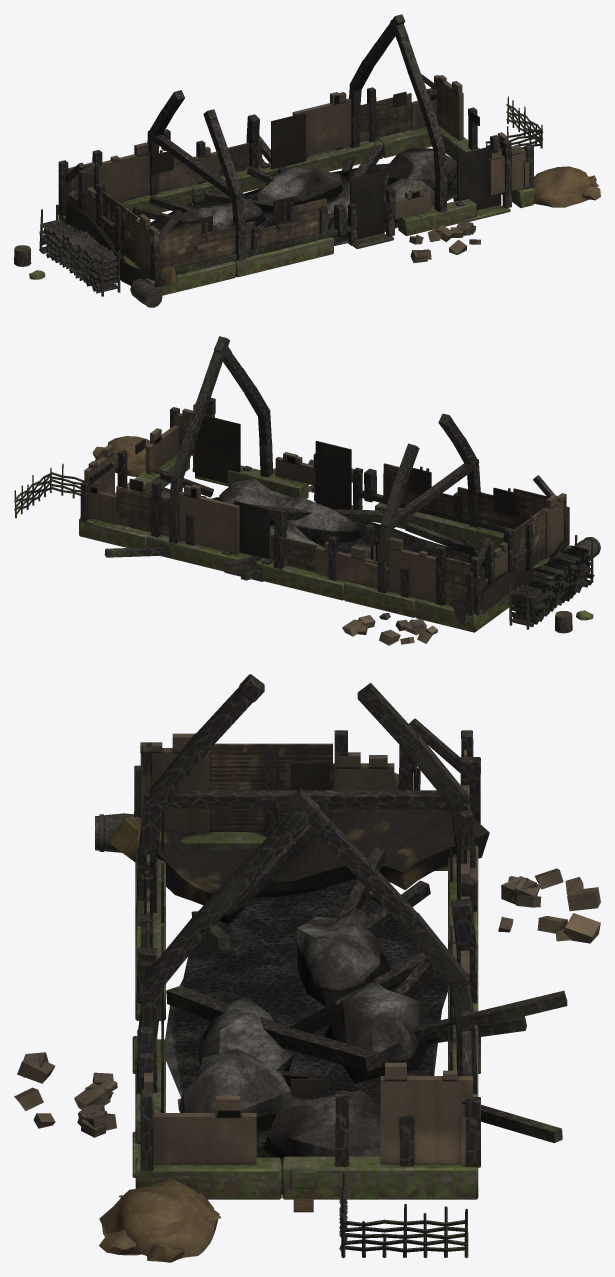
File: house_ruin.glb
The picture shows the model from 3 angles, top to bottom: view 1: azimuth 30°, elevation 25°; view 2: azimuth 150°, elevation 25°; view 3: azimuth 270°, elevation 25°; orthographic projection. The views are drawn at different scales.
Parts seen in each view (by area): view 1: house_a_ruin_LOD0; view 2: house_a_ruin_LOD0; view 3: house_a_ruin_LOD0.
Boxes of the visible parts, x1,y1,x2,y2 form: house_a_ruin_LOD0: (14,14,600,307); house_a_ruin_LOD0: (14,336,600,645); house_a_ruin_LOD0: (14,674,600,1262).
Size of what is drawn, in the model's own units: 16.62 by 5.44 by 8.83.
1 material, 1 textured.
